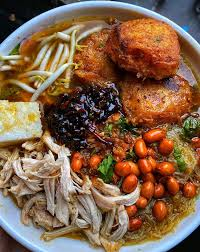soto: (1, 9, 198, 252)
